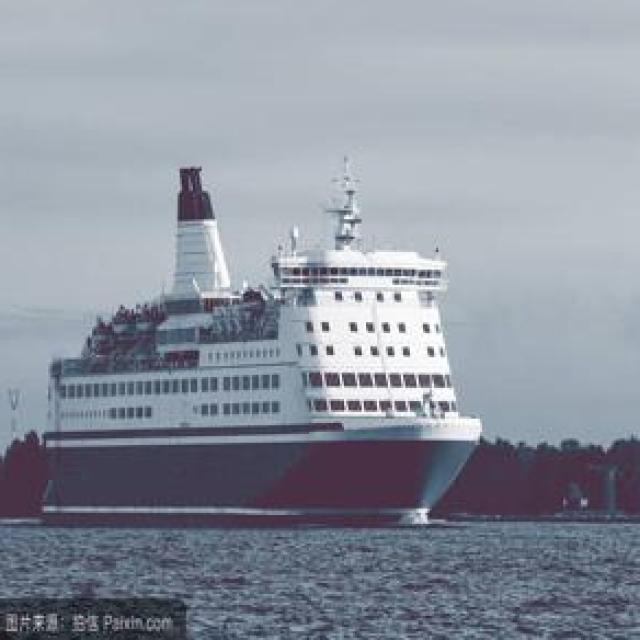passenger ship: (27, 158, 480, 518)
